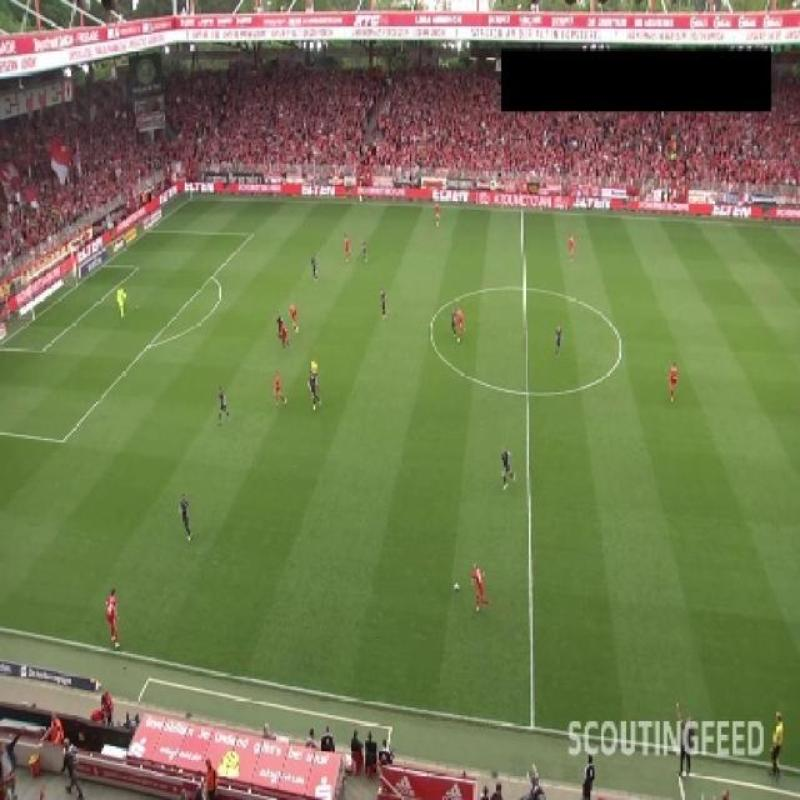1: (180, 189, 202, 206)
10: (201, 264, 220, 282)
11: (140, 332, 160, 354)
12: (50, 425, 72, 453)
13: (512, 198, 534, 223)
14: (512, 270, 536, 301)
15: (513, 373, 541, 408)
16: (513, 706, 548, 738)
2: (137, 224, 157, 241)
3: (94, 255, 114, 274)
7: (129, 255, 149, 276)
8: (30, 336, 52, 362)
9: (242, 223, 262, 242)
c: (414, 312, 448, 351), (608, 335, 632, 369)
